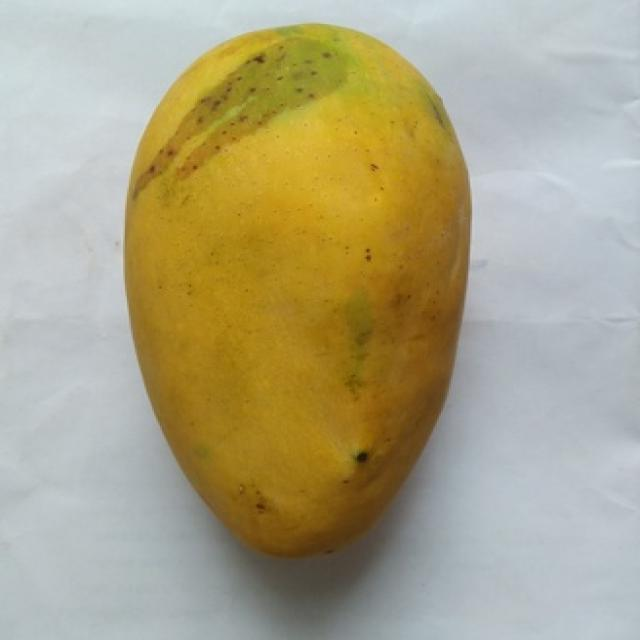Mango: (125, 24, 470, 555)
